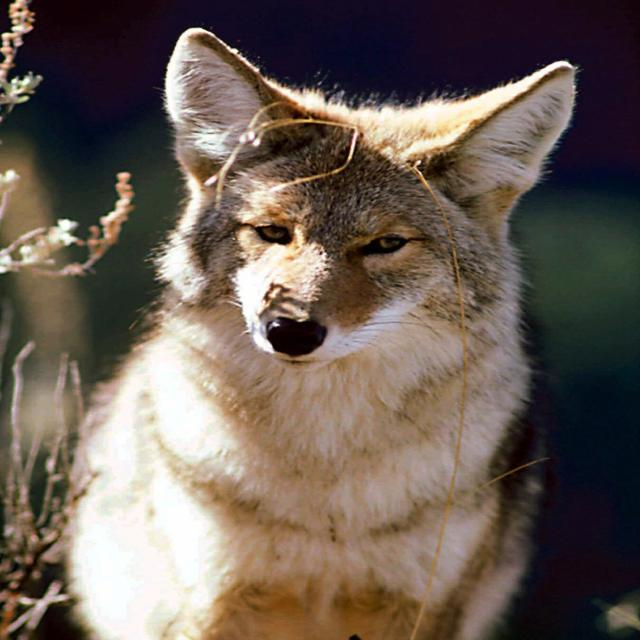Coyote: (68, 27, 584, 640)
